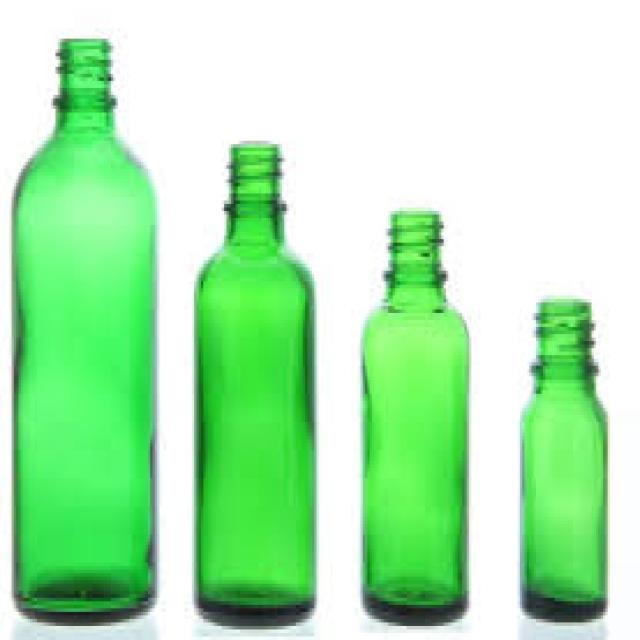glass: (9, 32, 157, 623), (192, 141, 314, 623), (358, 204, 467, 622), (518, 296, 606, 623)
